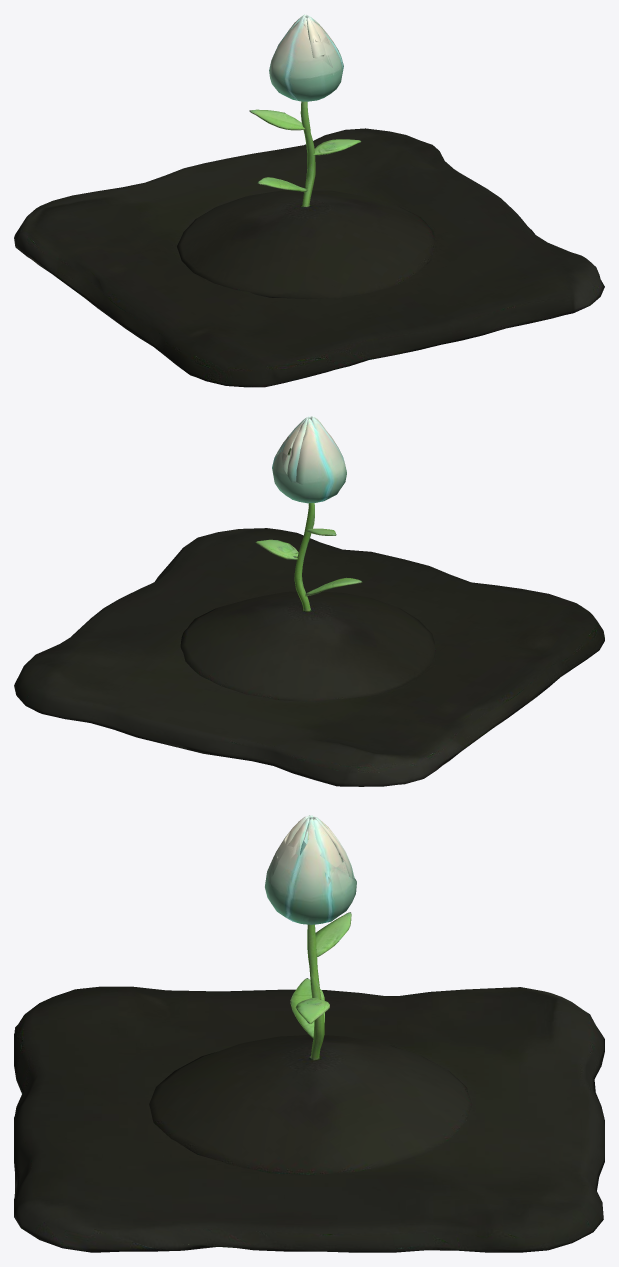
File: korotu_stage2.glb
3 renders of one model, top to bottom at view 1: azimuth 30°, elevation 25°; view 2: azimuth 150°, elevation 25°; view 3: azimuth 270°, elevation 25°, orthographic. The views are drawn at different scales.
Visible parts, largest first — view 1: mesh_node; view 2: mesh_node; view 3: mesh_node.
Part boxes in pixels (box(x1,y1,x2,y2)): mesh_node: box(14, 14, 604, 387); mesh_node: box(14, 416, 604, 786); mesh_node: box(14, 815, 604, 1252).
Size of the model in its own units: 1 by 0.582 by 1.
Materials: 1 (1 with a texture image).
